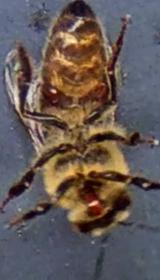varroa_mite: (36, 77, 62, 108)
